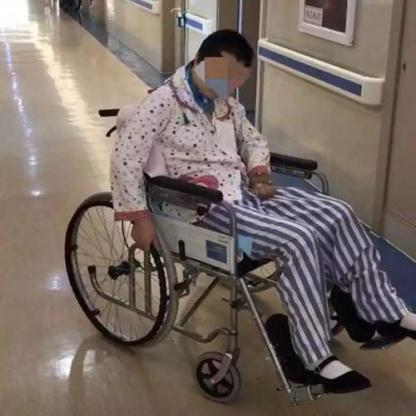wheelchair: (58, 29, 415, 401)
